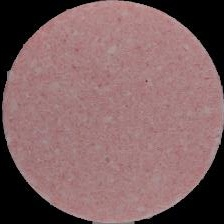12634-246: (0, 0, 224, 224)
